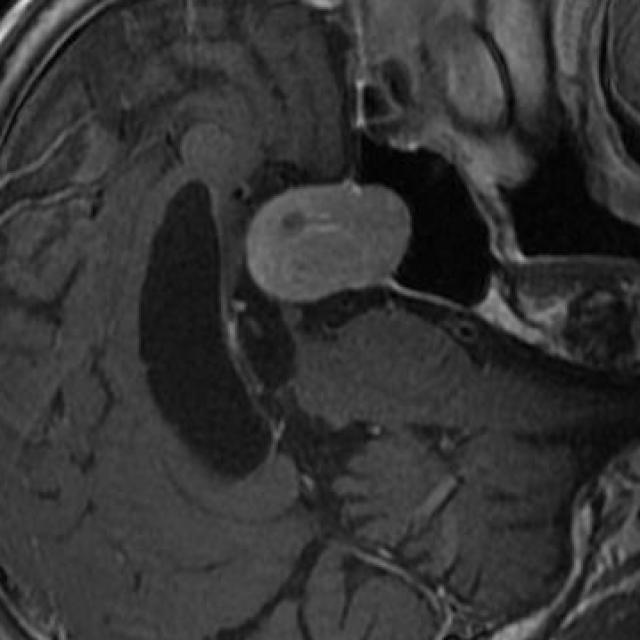pituitary: (244, 180, 412, 303)
